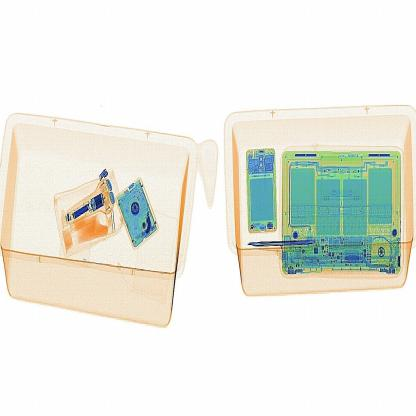pliers: (240, 239, 327, 252)
